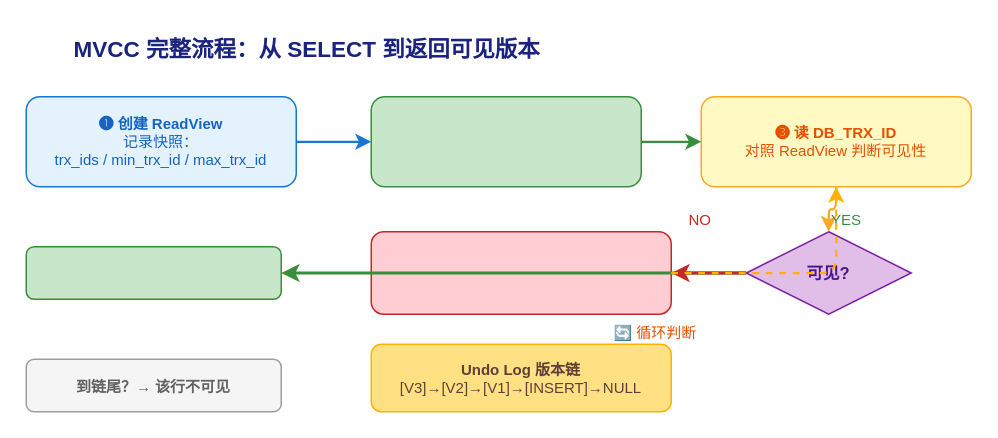
This 998x438 diagram has some shape labels left out. Here are the shapes that lost their labels. From the top down, the centre of each, then its label:
the point at 505,141: ❷ B+树查找目标行 主键索引或二级索引 → 找到叶子页最新版本
the point at 153,272: ✅ 返回该版本数据
the point at 520,272: ❌ 不可见 → 沿 DB_ROLL_PTR 跳到 Undo Log 的上一个版本
